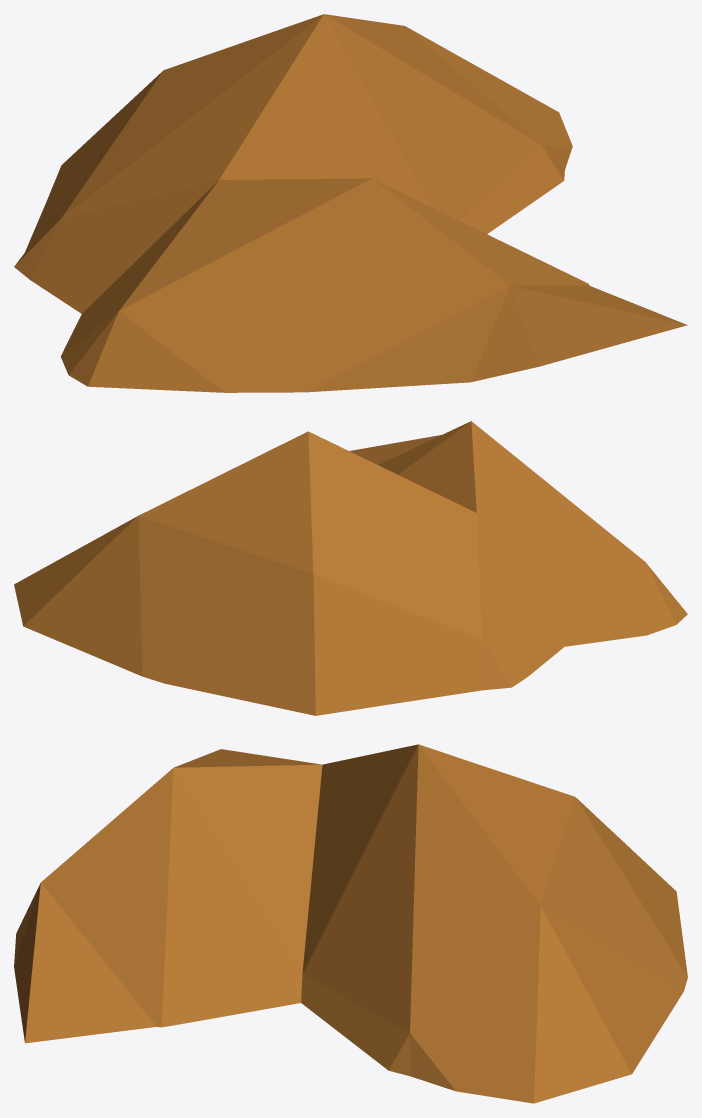
File: sand_small_1.fbx
3 renders of one model, top to bottom at view 1: azimuth 30°, elevation 25°; view 2: azimuth 150°, elevation 25°; view 3: azimuth 270°, elevation 25°, orthographic. The views are drawn at different scales.
Visible parts, largest first — view 1: sand_small_1; view 2: sand_small_1; view 3: sand_small_1.
Part boxes in pixels (x1=…): sand_small_1: x1=14, y1=14, x2=687, y2=392; sand_small_1: x1=14, y1=421, x2=687, y2=715; sand_small_1: x1=14, y1=744, x2=687, y2=1103.
Bounding box in the file's own units: 61.36 × 19.41 × 55.27.
